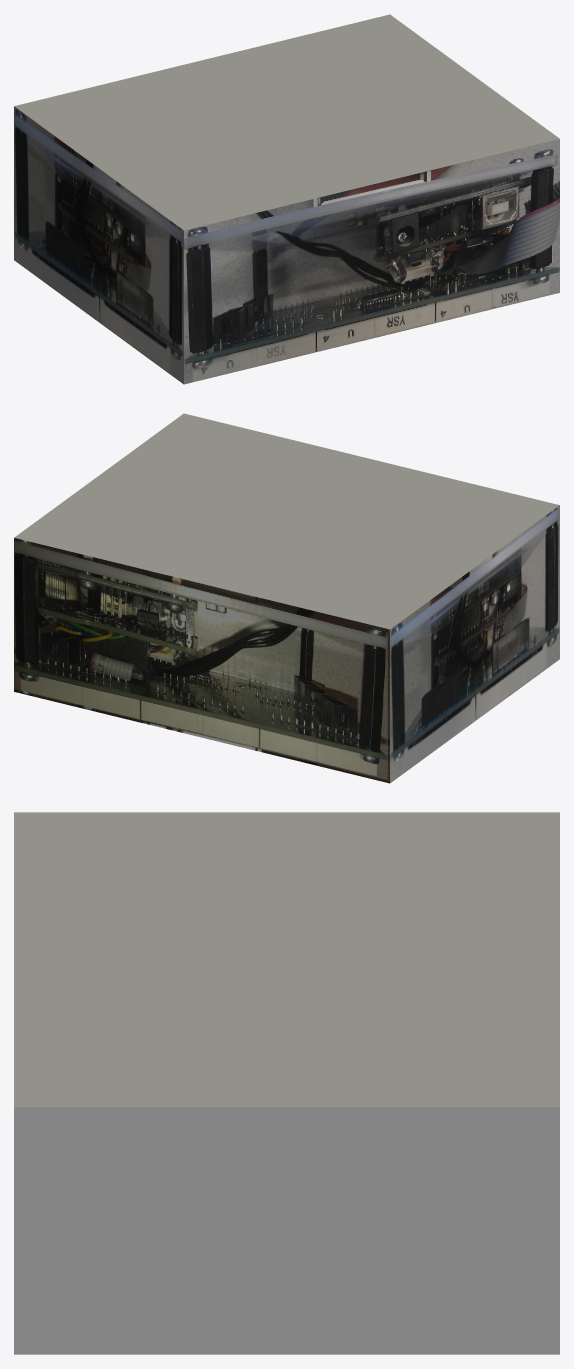
3 views of the same model, one above another, from view 1: azimuth 30°, elevation 25°; view 2: azimuth 150°, elevation 25°; view 3: azimuth 270°, elevation 25° (orthographic). The views are drawn at different scales.
Parts seen in each view (by area): view 1: Cube; view 2: Cube; view 3: Cube.
Part boxes in pixels (box(x1,y1,x2,y2)): Cube: box(14, 14, 559, 384); Cube: box(14, 413, 559, 783); Cube: box(14, 812, 559, 1354).
Bounding box in the file's own units: 0.23 × 0.18 × 0.09.
